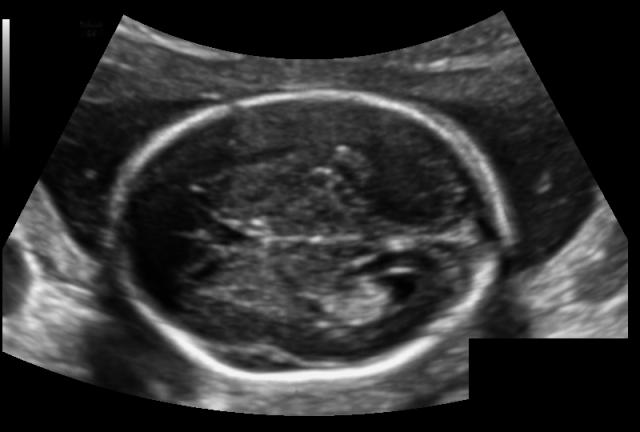CHOROID_PLEXUS: (305, 259, 402, 332)
CSP: (149, 188, 238, 280)
MIDLINE_FALX: (125, 186, 527, 287)
